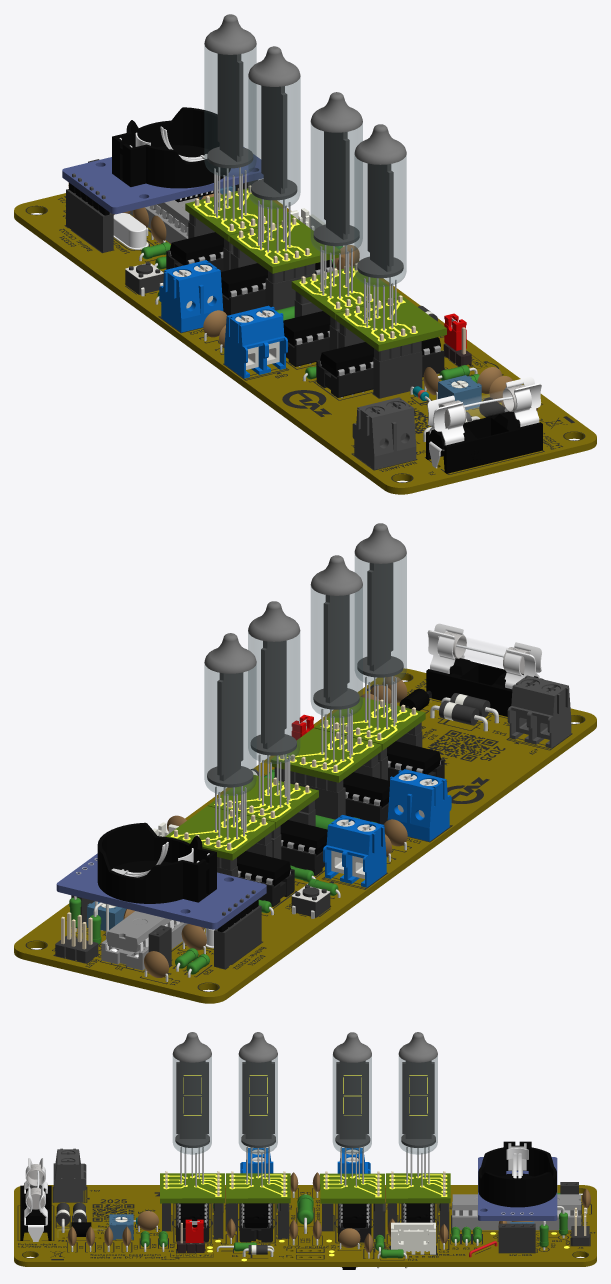
Rendered from clock-pcb.glb.
3 renders of one model, top to bottom at view 1: azimuth 30°, elevation 25°; view 2: azimuth 150°, elevation 25°; view 3: azimuth 270°, elevation 25°, orthographic. The views are drawn at different scales.
Parts seen in each view (by area): view 1: numitrónové hodiny.1138, numitrónové hodiny.972, numitrónové hodiny.999, numitrónové hodiny.198, numitrónové hodiny.988, numitrónové hodiny.990, numitrónové hodiny.091, numitrónové hodiny.196, numitrónové hodiny.1084, numitrónové hodiny.189, numitrónové hodiny.008, numitrónové hodiny.1136 (+10 smaller); view 2: numitrónové hodiny.1138, numitrónové hodiny.972, numitrónové hodiny.999, numitrónové hodiny.990, numitrónové hodiny.198, numitrónové hodiny.988, numitrónové hodiny.091, numitrónové hodiny.196, numitrónové hodiny.1084, numitrónové hodiny.008, numitrónové hodiny.1136, numitrónové hodiny.191 (+8 smaller); view 3: numitrónové hodiny.972, numitrónové hodiny.1138, numitrónové hodiny.999, numitrónové hodiny.988, numitrónové hodiny.990, numitrónové hodiny.971, numitrónové hodiny.198, numitrónové hodiny.091, numitrónové hodiny.1084, numitrónové hodiny.197, numitrónové hodiny.998, numitrónové hodiny.188 (+12 smaller).
Boxes of the visible parts, x1,y1,x2,y2 form: numitrónové hodiny.1138: (204,45,406,286); numitrónové hodiny.972: (14,193,596,494); numitrónové hodiny.999: (72,53,403,278); numitrónové hodiny.198: (125,214,542,473); numitrónové hodiny.988: (185,188,446,351); numitrónové hodiny.990: (66,159,476,426); numitrónové hodiny.091: (69,107,230,215); numitrónové hodiny.196: (159,260,287,378); numitrónové hodiny.1084: (204,14,406,164); numitrónové hodiny.189: (113,126,541,468); numitrónové hodiny.008: (62,147,263,214); numitrónové hodiny.1136: (214,167,396,330); numitrónové hodiny.1138: (204,554,406,795); numitrónové hodiny.972: (14,668,596,1003); numitrónové hodiny.999: (123,562,403,915); numitrónové hodiny.990: (55,693,490,968); numitrónové hodiny.198: (74,658,543,981); numitrónové hodiny.988: (165,697,425,860); numitrónové hodiny.091: (97,822,258,932); numitrónové hodiny.196: (323,769,451,887); numitrónové hodiny.1084: (204,523,406,673); numitrónové hodiny.008: (56,853,266,929); numitrónové hodiny.1136: (215,676,396,839); numitrónové hodiny.191: (507,675,571,748); numitrónové hodiny.972: (14,1185,596,1266); numitrónové hodiny.1138: (173,1055,437,1154); numitrónové hodiny.999: (175,1060,435,1148); numitrónové hodiny.988: (160,1173,450,1203); numitrónové hodiny.990: (56,1171,589,1254); numitrónové hodiny.971: (17,1186,595,1260); numitrónové hodiny.198: (20,1149,587,1269); numitrónové hodiny.091: (478,1141,556,1207); numitrónové hodiny.1084: (172,1032,437,1062); numitrónové hodiny.197: (67,1172,590,1253); numitrónové hodiny.998: (163,1075,569,1261); numitrónové hodiny.188: (140,1193,567,1258).
Size of the model in its own units: 5.01 by 6.14 by 16.
